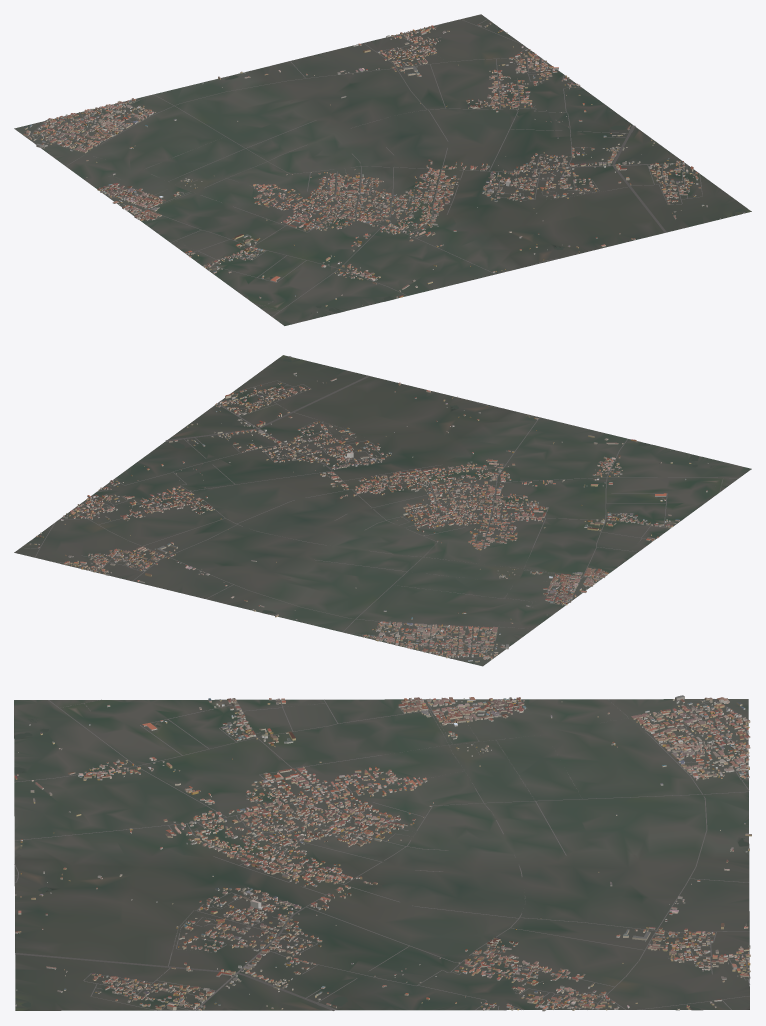
3 renders of one model, top to bottom at view 1: azimuth 30°, elevation 25°; view 2: azimuth 150°, elevation 25°; view 3: azimuth 270°, elevation 25°, orthographic. The views are drawn at different scales.
Parts seen in each view (by area): view 1: ground, buildings, roads; view 2: ground, buildings, roads; view 3: ground, buildings, roads, water.
Boxes of the visible parts, bbox=[...] form: ground: bbox=[14, 14, 751, 325]; buildings: bbox=[23, 23, 744, 312]; roads: bbox=[26, 19, 702, 316]; ground: bbox=[14, 355, 751, 666]; buildings: bbox=[29, 356, 708, 662]; roads: bbox=[21, 375, 738, 658]; ground: bbox=[14, 699, 749, 1010]; buildings: bbox=[14, 695, 751, 1011]; roads: bbox=[14, 699, 750, 1010]; water: bbox=[14, 717, 748, 1009].
Bounding box in the file's own units: 2833 × 29.05 × 2817.
